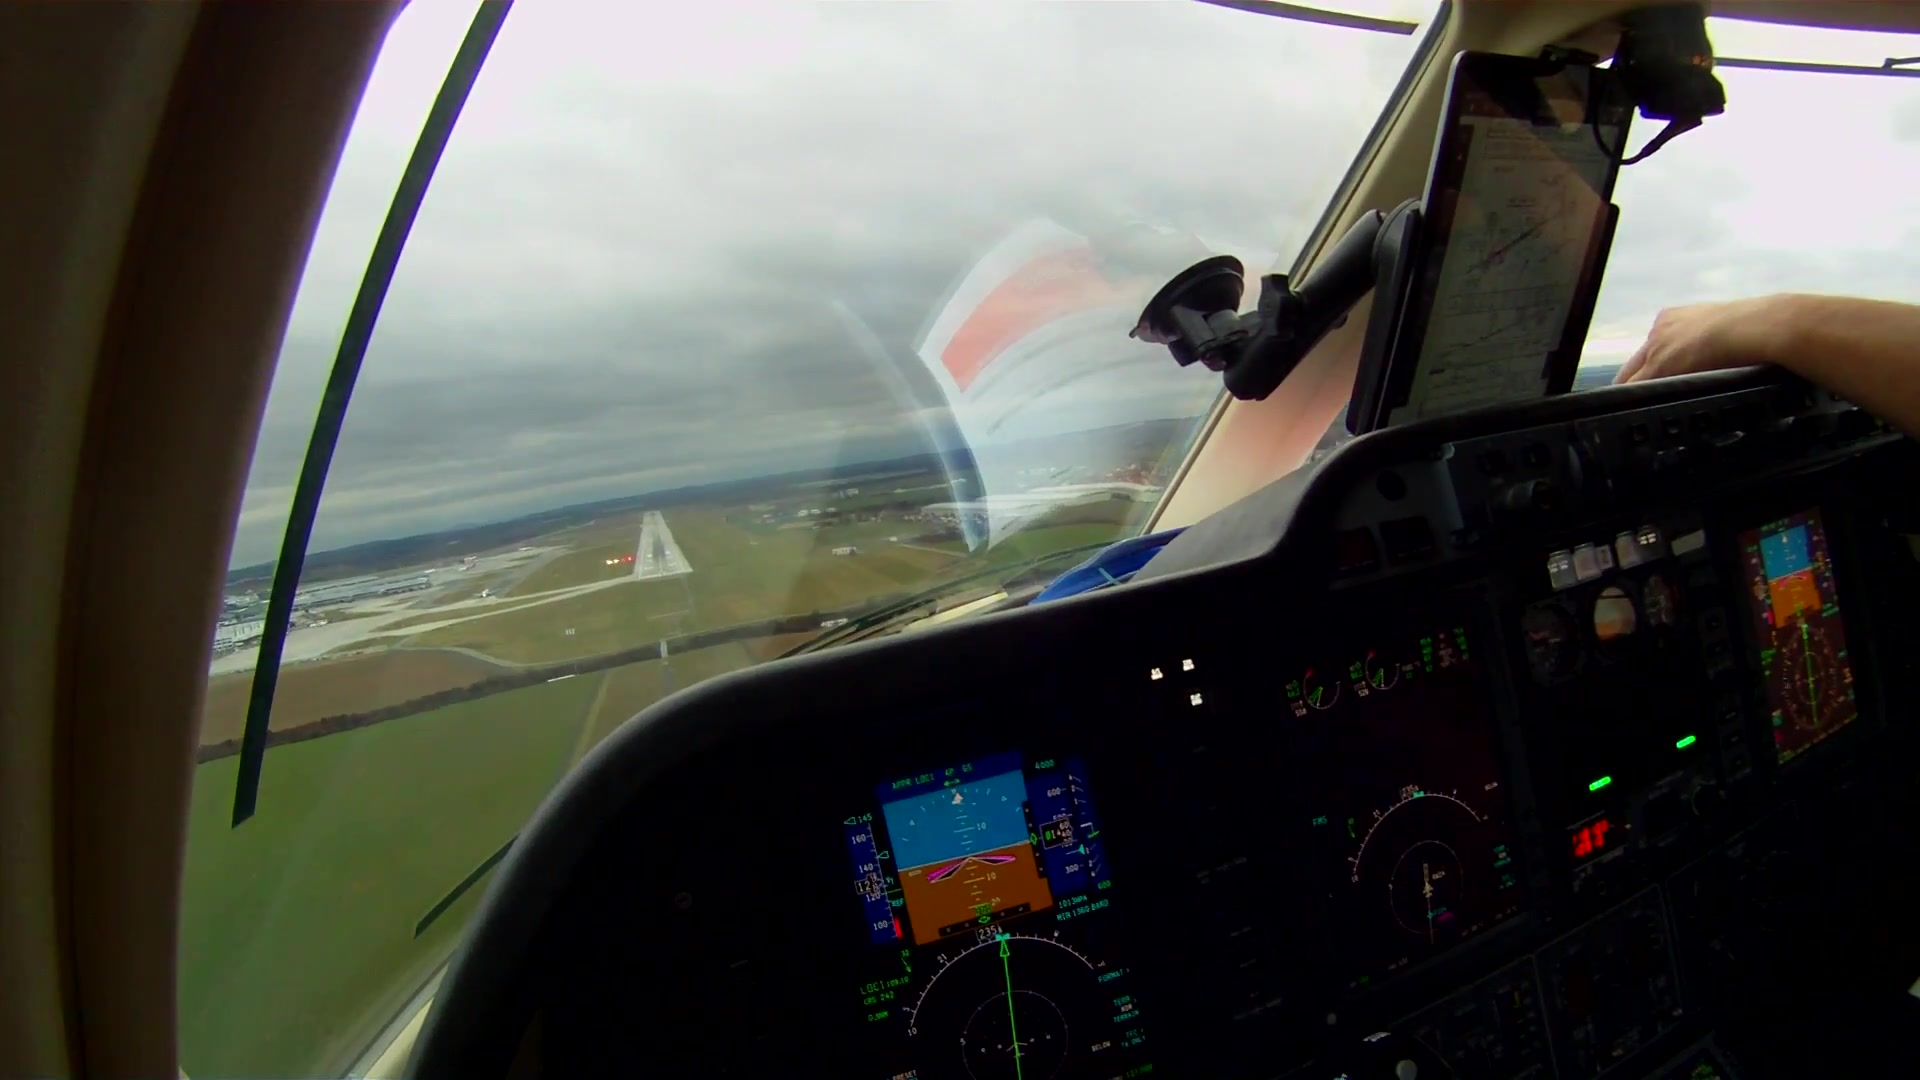runway: (632, 512, 694, 582)
